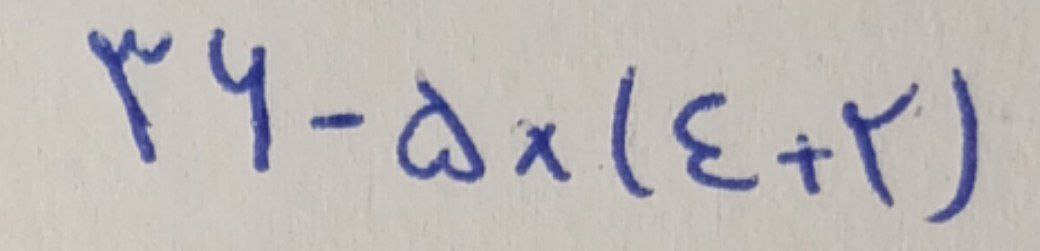character: (79, 22, 174, 163), (395, 62, 490, 186), (205, 24, 276, 177), (840, 79, 921, 208), (671, 86, 763, 193), (926, 61, 984, 227), (607, 64, 658, 200), (509, 109, 573, 186), (775, 126, 834, 194), (307, 107, 364, 137)
